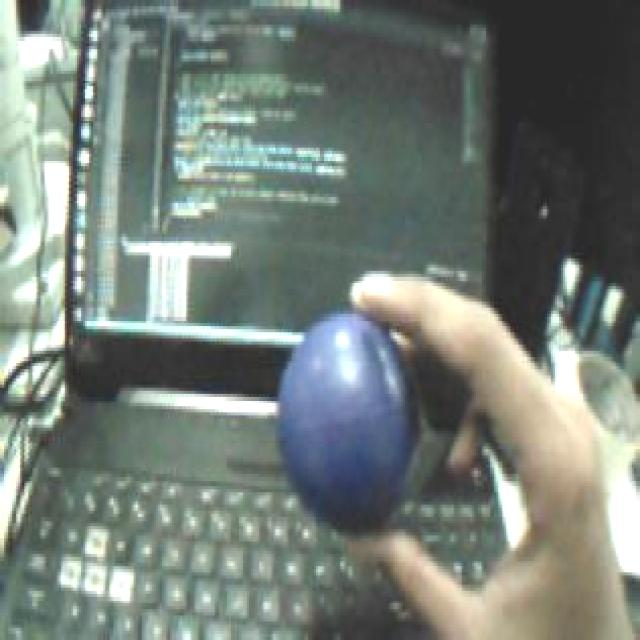BallPurple: (278, 309, 417, 534)
